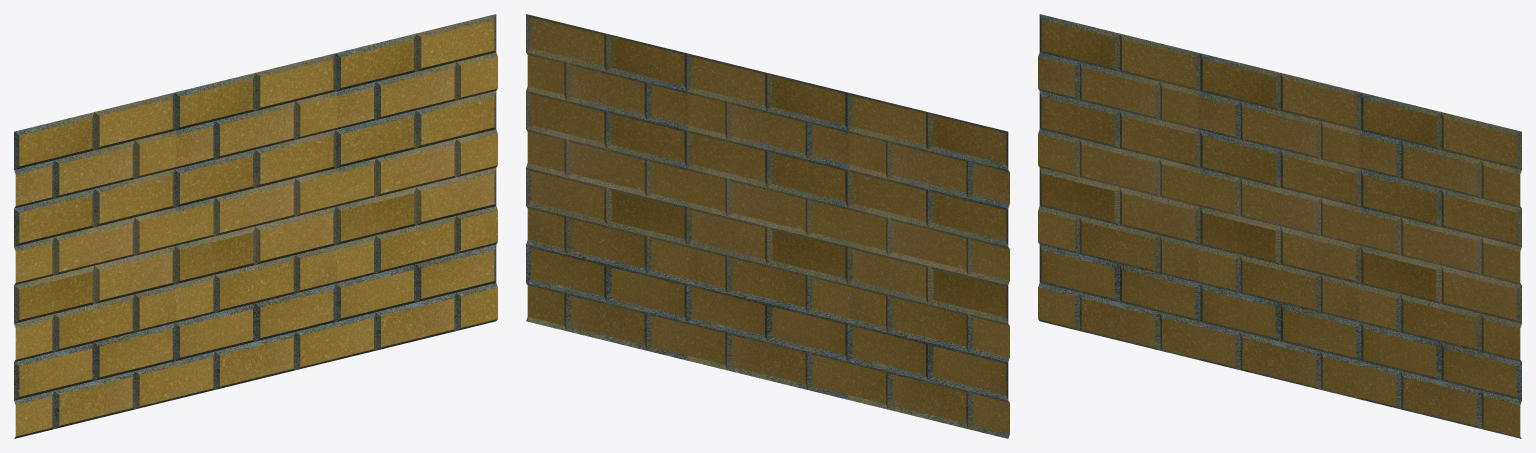
Rendered from Parede3Tile.fbx.
3 views of the same model, side by side, from view 1: azimuth 30°, elevation 25°; view 2: azimuth 150°, elevation 25°; view 3: azimuth 330°, elevation 25° (orthographic).
Parts seen in each view (by area): view 1: Plano.009; view 2: Plano.009; view 3: Plano.009.
Part boxes in pixels (<box>): Plano.009: <box>14,14,497,438</box>; Plano.009: <box>526,14,1009,438</box>; Plano.009: <box>1038,14,1521,438</box>.
Bounding box in the file's own units: 8775 × 5343 × 50.34.
